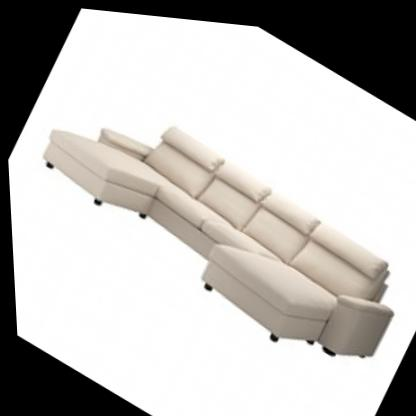Sofa: (2, 49, 416, 404)
